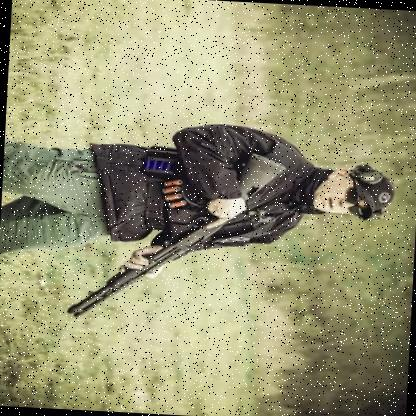rifle: (61, 145, 284, 328)
